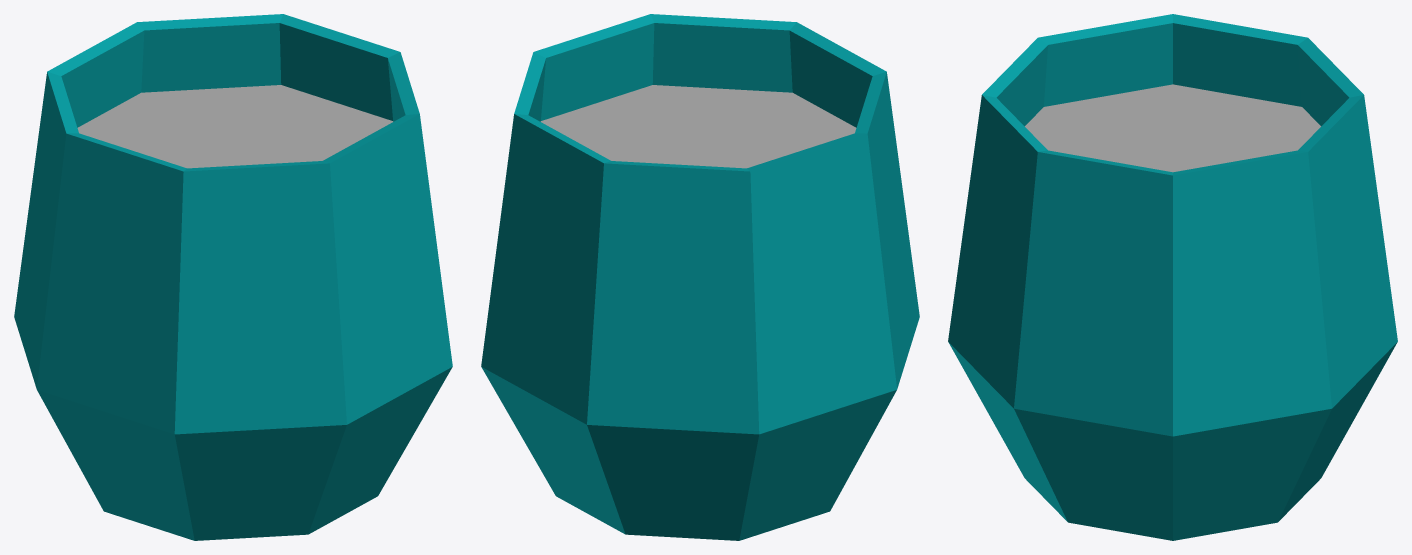
Rendered from Glass3.fbx.
3 views of the same model, side by side, from view 1: azimuth 30°, elevation 25°; view 2: azimuth 150°, elevation 25°; view 3: azimuth 270°, elevation 25° (orthographic).
Visible parts, largest first — view 1: Glass3, LiquidFull; view 2: Glass3, LiquidFull; view 3: Glass3, LiquidFull.
Part boxes in pixels (x1,y1,x2,y2): Glass3: [14, 14, 452, 540]; LiquidFull: [77, 85, 393, 168]; Glass3: [481, 14, 919, 540]; LiquidFull: [540, 85, 856, 168]; Glass3: [948, 14, 1397, 540]; LiquidFull: [1025, 84, 1320, 172].
Size of the model in its own units: 0.2214 by 0.2082 by 0.2214.
